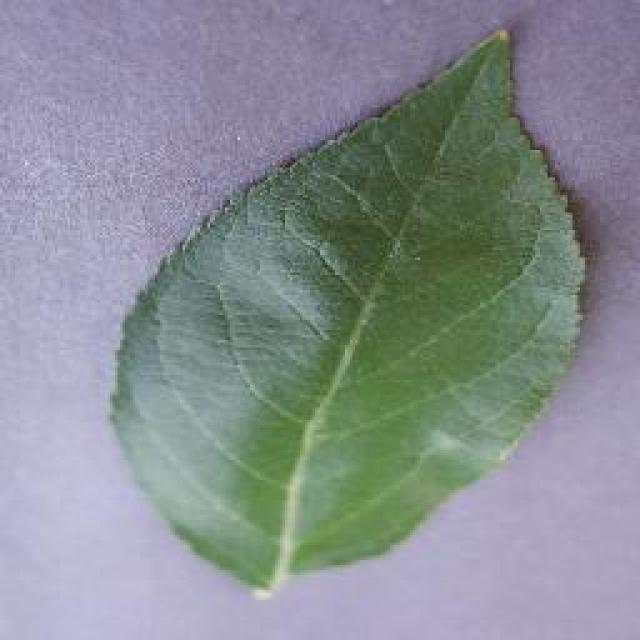apple healthy: (105, 25, 590, 597)
